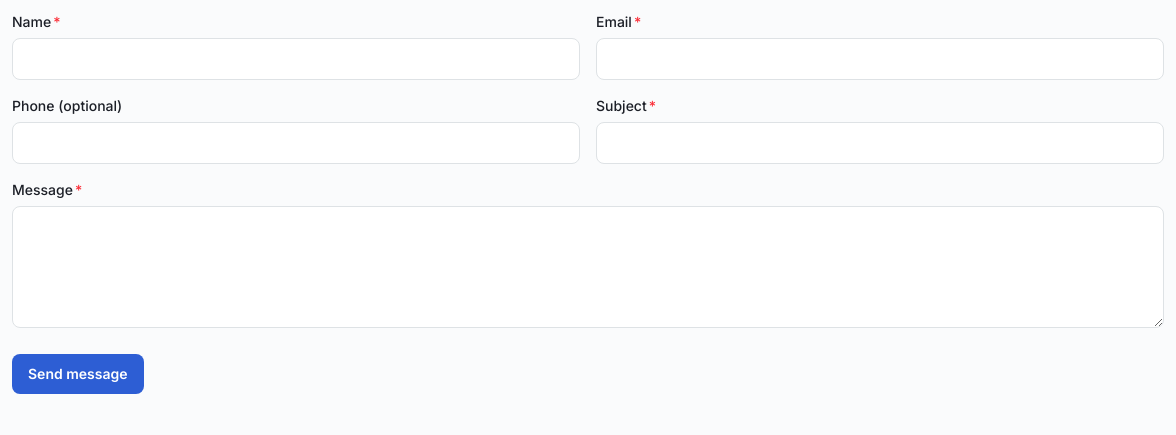
Test: ContactForm › surfaces field-level errors from the API
Type "Jane Recruiter" into the field labelled "Name*".
click(296, 59); type("Jane Recruiter")  # box [12, 38, 580, 80]
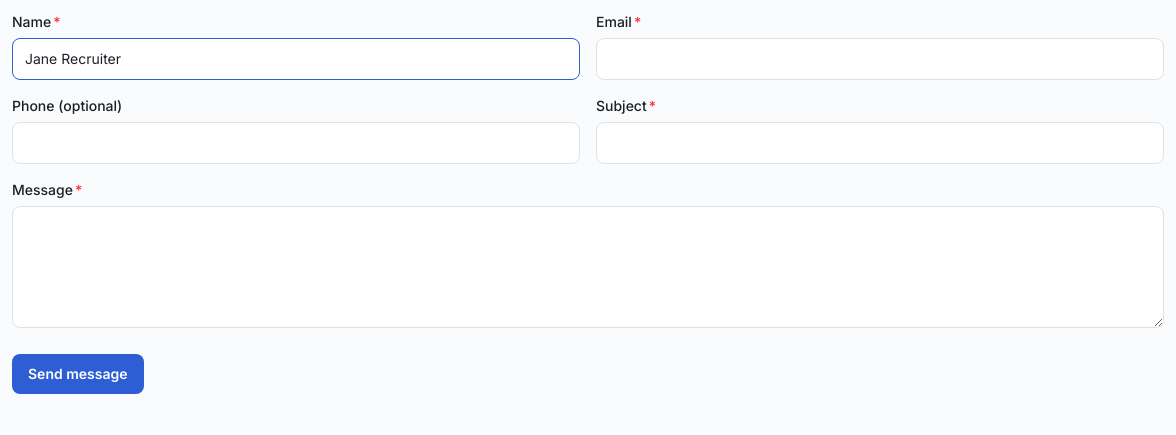
Type "jane@example.com" into the field labelled "Email*".
click(880, 59); type("jane@example.com")  # box [596, 38, 1164, 80]
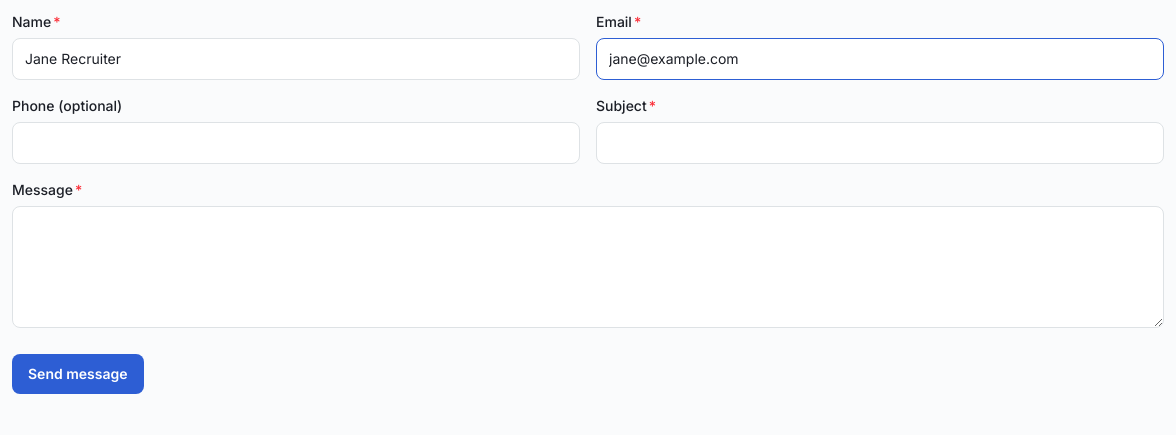
Type "Internship" into the field labelled "Subject*".
click(880, 143); type("Internship")  # box [596, 122, 1164, 164]
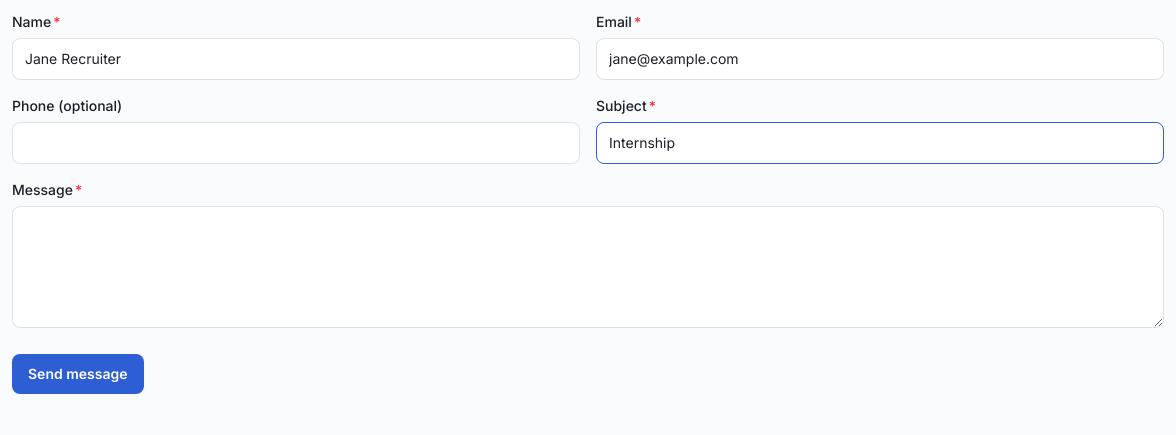
Type "Hello Bryan, I have an opportunity." into the text box labelled "Message*".
click(588, 267); type("Hello Bryan, I have an opportunity.")  # box [12, 206, 1164, 328]
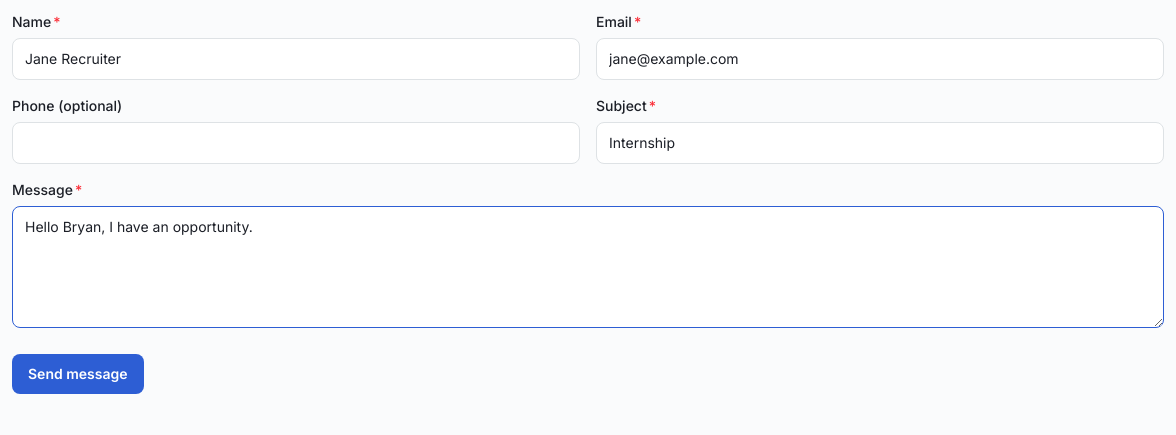
Click the button "Send message".
click(78, 374)  # box [12, 354, 144, 394]
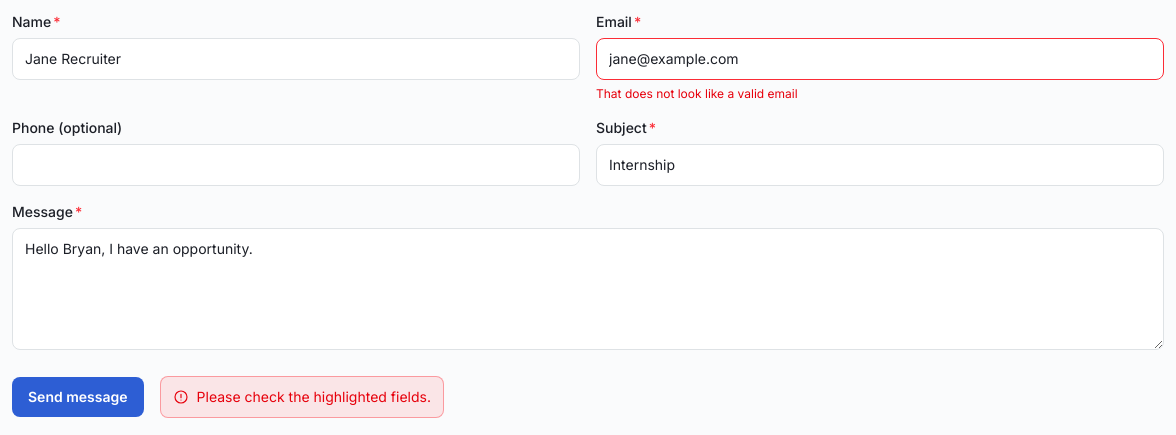
Check: the text "That does not look like a valid email" is shown, box [596, 86, 798, 101]
